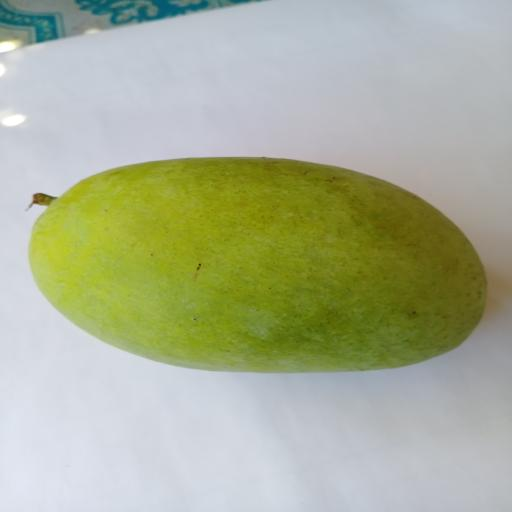mango-unripe: (11, 150, 503, 382)
